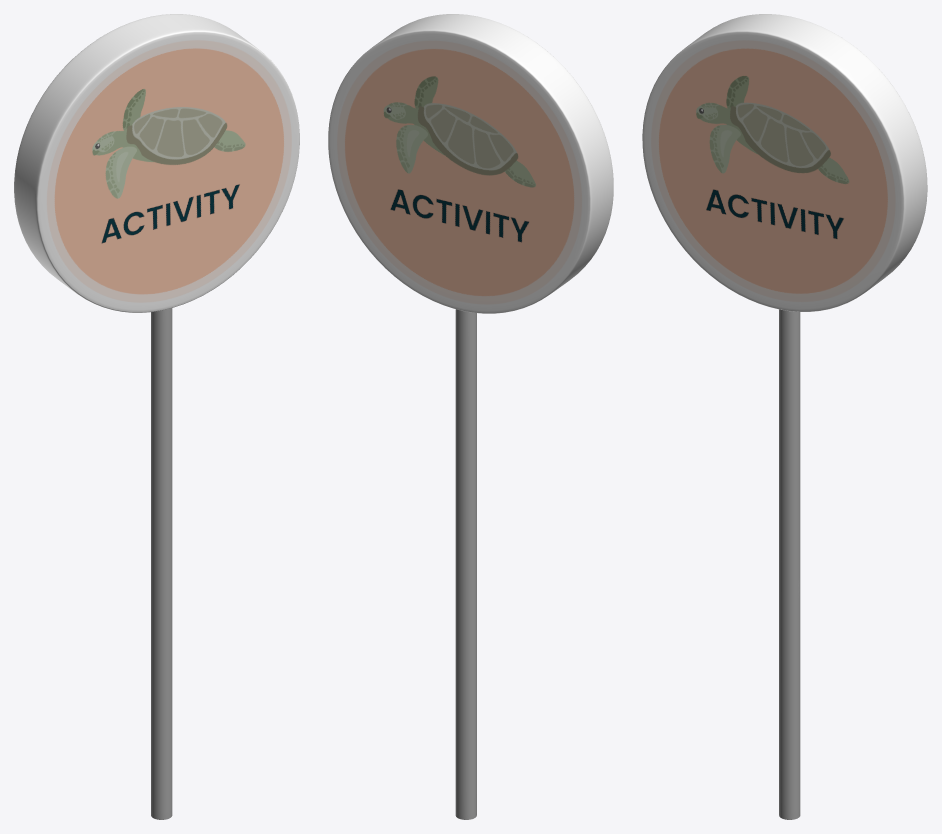
Rendered from sign.glb.
3 renders of one model, left to right at view 1: azimuth 30°, elevation 25°; view 2: azimuth 150°, elevation 25°; view 3: azimuth 330°, elevation 25°, orthographic.
Visible parts, largest first — view 1: sign_geo; view 2: sign_geo; view 3: sign_geo.
Part boxes in pixels (bbox=[...]): sign_geo: bbox=[14, 14, 299, 819]; sign_geo: bbox=[328, 14, 613, 819]; sign_geo: bbox=[642, 14, 927, 819].
Bounding box in the file's own units: 0.5796 × 1.66 × 0.0954.
1 material, 1 textured.
